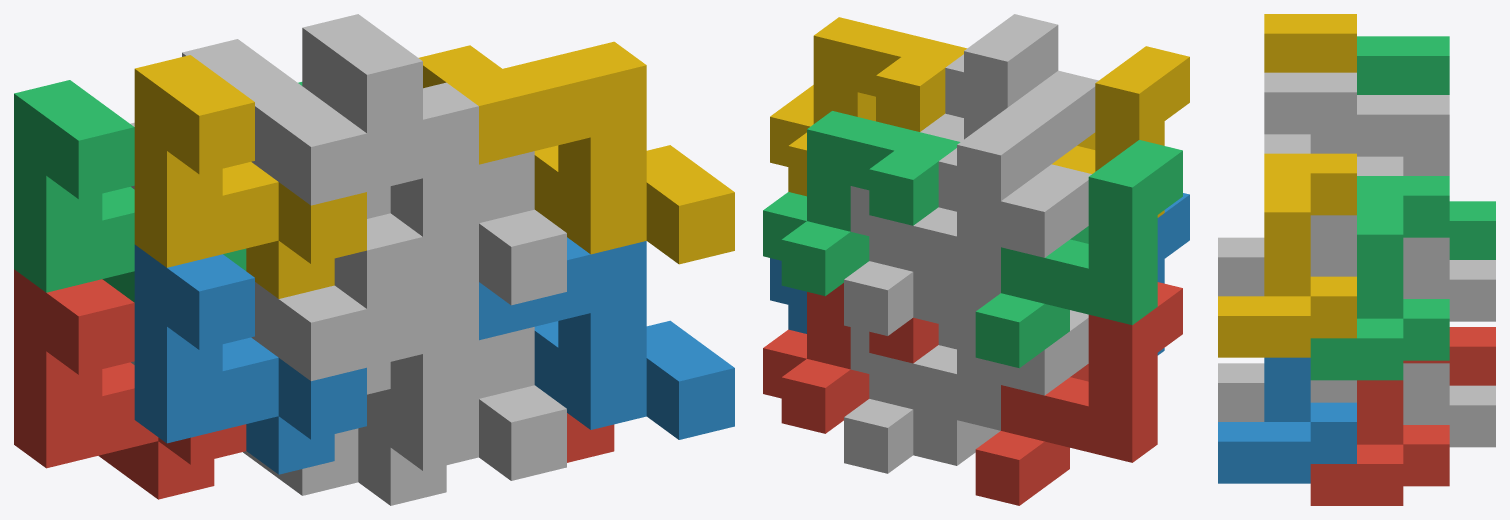
File: tiling.obj
3 renders of one model, left to right at view 1: azimuth 30°, elevation 25°; view 2: azimuth 150°, elevation 25°; view 3: azimuth 270°, elevation 25°, orthographic. The views are drawn at different scales.
Visible parts, largest first — view 1: copy_2_domain_8, copy_2_domain_2, copy_2_domain_4, copy_1_domain_4, copy_1_domain_2, copy_2_domain_6, copy_1_domain_1, copy_1_domain_3, copy_1_domain_8, copy_1_domain_6, copy_2_domain_1, copy_1_domain_7 (+1 smaller); view 2: copy_1_domain_3, copy_1_domain_1, copy_1_domain_7, copy_2_domain_7, copy_2_domain_8, copy_1_domain_5, copy_2_domain_5, copy_2_domain_3, copy_1_domain_8, copy_1_domain_4, copy_2_domain_1, copy_2_domain_4 (+3 smaller); view 3: copy_2_domain_8, copy_2_domain_7, copy_1_domain_7, copy_2_domain_6, copy_2_domain_5, copy_1_domain_8, copy_1_domain_3, copy_1_domain_5, copy_1_domain_4, copy_2_domain_4, copy_1_domain_1, copy_2_domain_2 (+2 smaller).
Boxes of the visible parts, <box> form: copy_2_domain_8: <box>419,41,734,264</box>; copy_2_domain_2: <box>251,282,566,480</box>; copy_2_domain_4: <box>251,82,566,305</box>; copy_1_domain_4: <box>134,55,366,298</box>; copy_1_domain_2: <box>134,244,366,474</box>; copy_2_domain_6: <box>479,237,734,439</box>; copy_1_domain_1: <box>14,269,246,499</box>; copy_1_domain_3: <box>14,80,246,302</box>; copy_1_domain_8: <box>302,14,534,222</box>; copy_1_domain_6: <box>334,213,534,398</box>; copy_2_domain_1: <box>131,361,446,505</box>; copy_1_domain_7: <box>182,39,301,98</box>; copy_1_domain_3: <box>975,140,1182,368</box>; copy_1_domain_1: <box>975,282,1182,505</box>; copy_1_domain_7: <box>844,107,1051,335</box>; copy_2_domain_7: <box>763,111,960,296</box>; copy_2_domain_8: <box>770,17,966,196</box>; copy_1_domain_5: <box>844,282,1000,473</box>; copy_2_domain_5: <box>763,283,938,433</box>; copy_2_domain_3: <box>913,148,1091,328</box>; copy_1_domain_8: <box>850,14,1058,235</box>; copy_1_domain_4: <box>1052,46,1189,217</box>; copy_2_domain_1: <box>913,310,1088,465</box>; copy_2_domain_4: <box>945,54,1098,163</box>; copy_2_domain_8: <box>1218,153,1356,357</box>; copy_2_domain_7: <box>1310,176,1449,380</box>; copy_1_domain_7: <box>1357,95,1495,321</box>; copy_2_domain_6: <box>1218,357,1356,483</box>; copy_2_domain_5: <box>1310,360,1449,505</box>; copy_1_domain_8: <box>1264,72,1356,276</box>; copy_1_domain_3: <box>1357,36,1495,259</box>; copy_1_domain_5: <box>1403,363,1495,447</box>; copy_1_domain_4: <box>1264,14,1356,72</box>; copy_2_domain_4: <box>1218,134,1310,296</box>; copy_1_domain_1: <box>1449,327,1495,385</box>; copy_2_domain_2: <box>1218,363,1264,421</box>.
Bounding box in the file's own units: 10 × 8 × 6.
